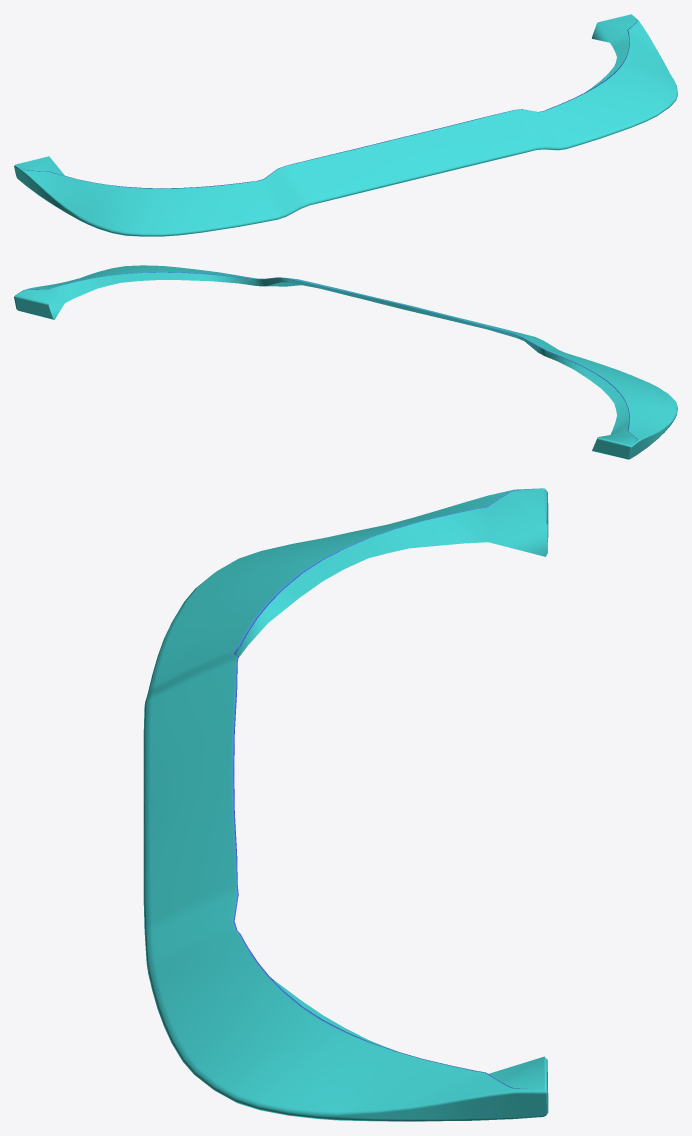
File: Car_Mini_CountrymanJCW_2017_Splitter_SetB_AltN.fbx
3 renders of one model, top to bottom at view 1: azimuth 30°, elevation 25°; view 2: azimuth 150°, elevation 25°; view 3: azimuth 270°, elevation 25°, orthographic. The views are drawn at different scales.
Parts seen in each view (by area): view 1: Splitter 6; view 2: Splitter 6; view 3: Splitter 6.
Part boxes in pixels (x1,y1,x2,y2): Splitter 6: [14, 14, 677, 236]; Splitter 6: [14, 265, 677, 459]; Splitter 6: [143, 488, 548, 1121].
Size of the model in its own units: 1.72 by 0.0848 by 0.4874.
